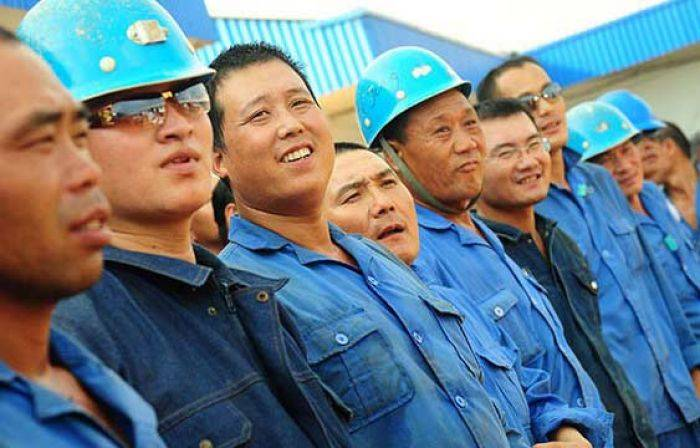No Safety Helmet: (1, 24, 116, 302), (199, 34, 342, 221), (328, 134, 430, 275), (470, 49, 572, 157), (470, 95, 556, 220)
Safety Helmet: (11, 1, 234, 220), (350, 34, 491, 209), (564, 97, 645, 199)
